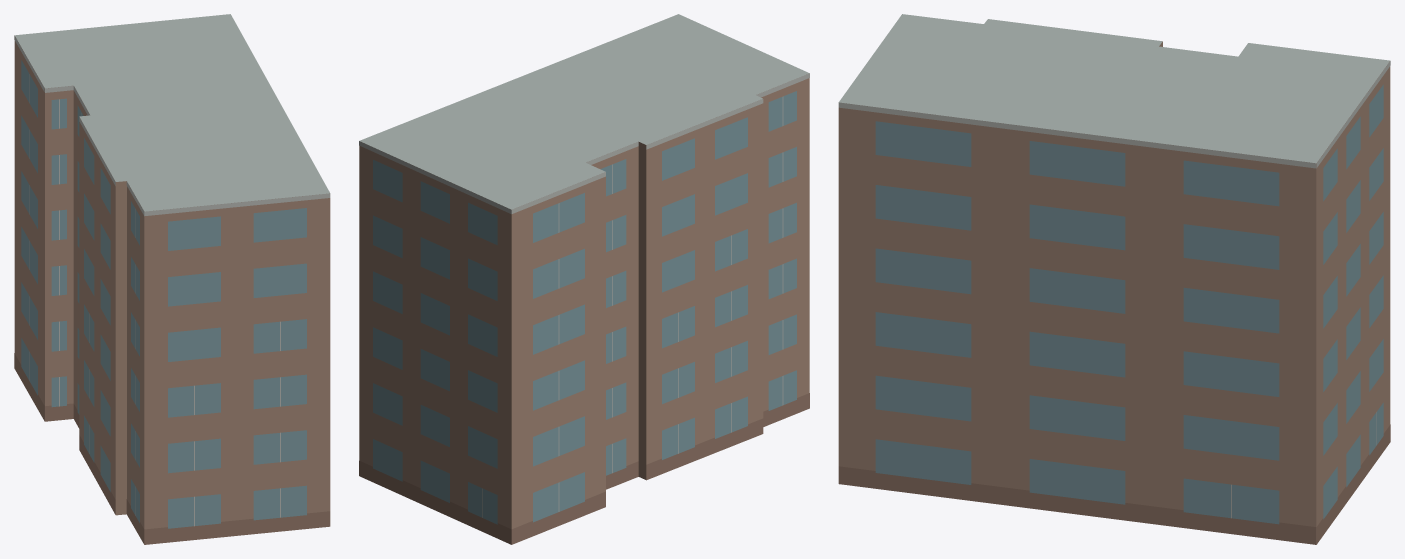
File: survey-upis-32592646.glb
3 views of the same model, side by side, from view 1: azimuth 30°, elevation 25°; view 2: azimuth 150°, elevation 25°; view 3: azimuth 270°, elevation 25° (orthographic). The views are drawn at different scales.
Visible parts, largest first — view 1: survey-upis-32592646.tmp; view 2: survey-upis-32592646.tmp; view 3: survey-upis-32592646.tmp.
Part boxes in pixels (left/top/right/bottom): survey-upis-32592646.tmp: left=14, top=14, right=330, bottom=544; survey-upis-32592646.tmp: left=359, top=14, right=809, bottom=544; survey-upis-32592646.tmp: left=838, top=14, right=1390, bottom=544.
Size of the model in its own units: 14.94 by 17.8 by 23.34.
